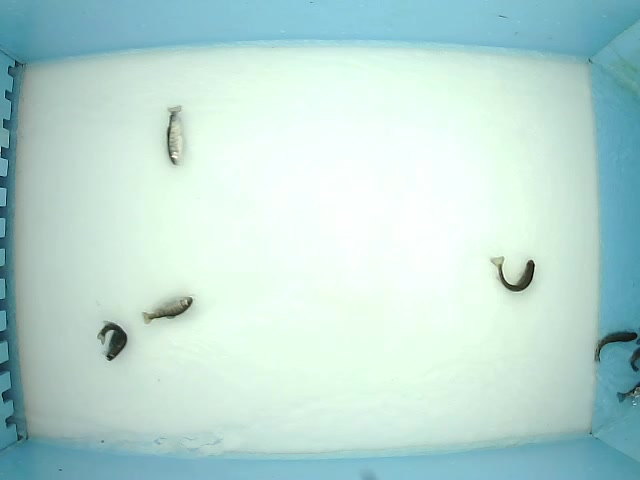fish: (489, 254, 536, 293), (141, 293, 194, 324), (592, 329, 638, 364), (95, 320, 128, 362), (165, 105, 187, 166)
